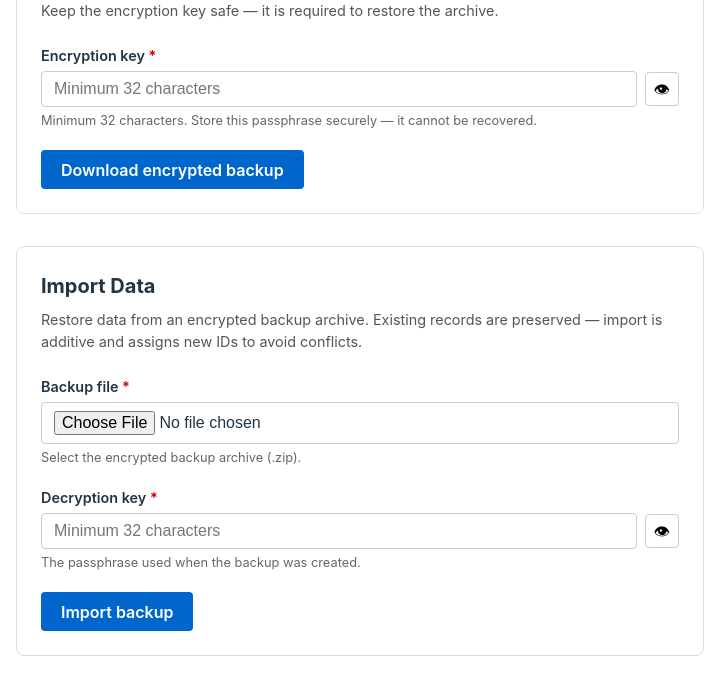
Test: ImportExportPage › Import form validation › shows error when decryption key is shorter than 32 characters
(page scrolled)
Type "short" into the password field labelled "Decryption key *".
click(339, 531); type("short")  # box [41,513,637,549]
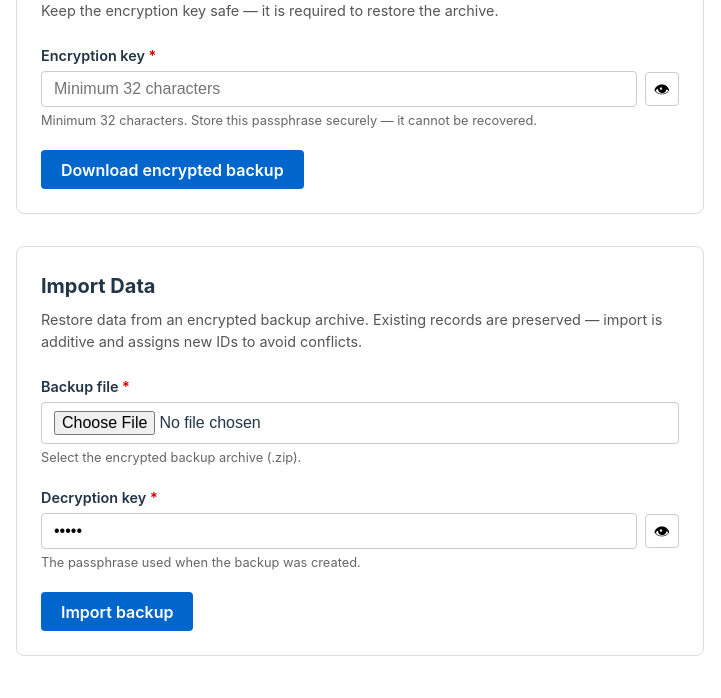
Click the button "Import backup".
click(117, 612)  # box [41,592,193,631]
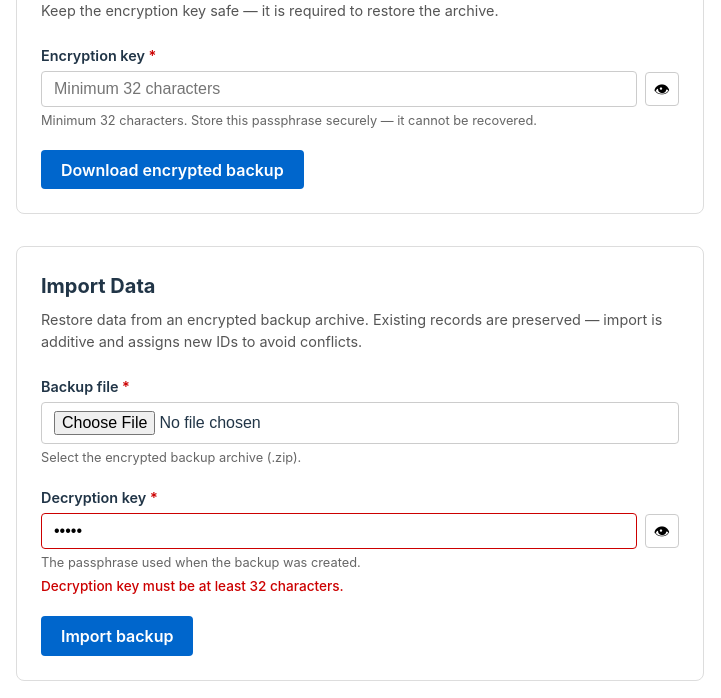
Expected: the text "Decryption key must be at least 32 characters." is shown, [41,578,344,594]
